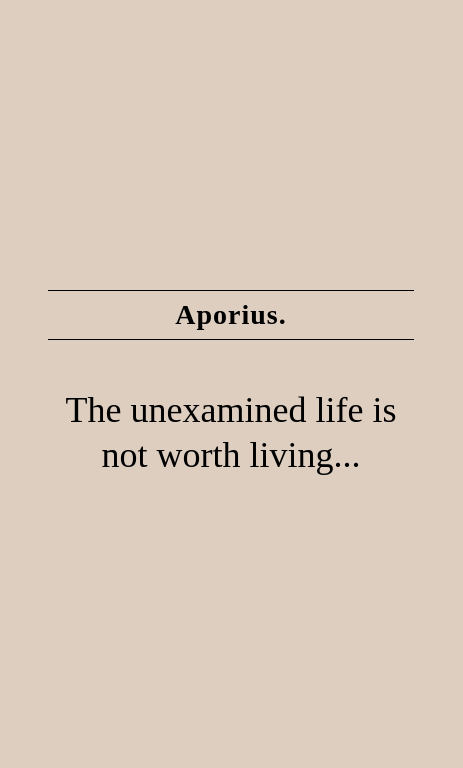
the gate › sends a fresh install to settings instead
Click the button "Aporius. The unexamined life is not worth living...".
click(231, 384)  # box x1=16 y1=0 x2=446 y2=767
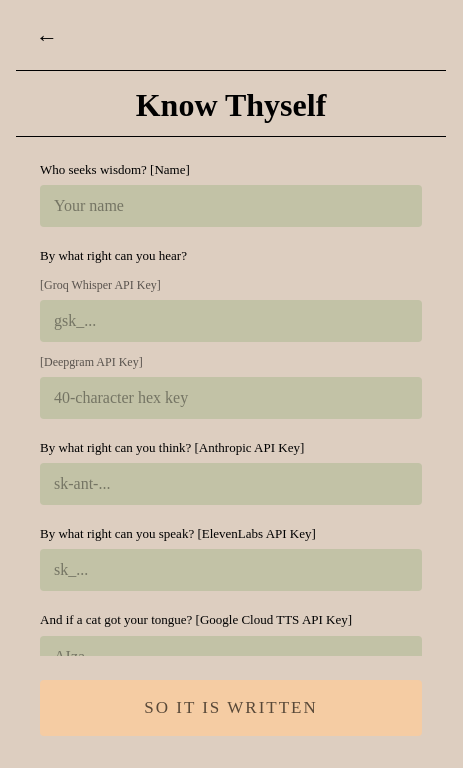
Expected: the heading "Know Thyself" is shown, x1=136 y1=87 x2=326 y2=123
